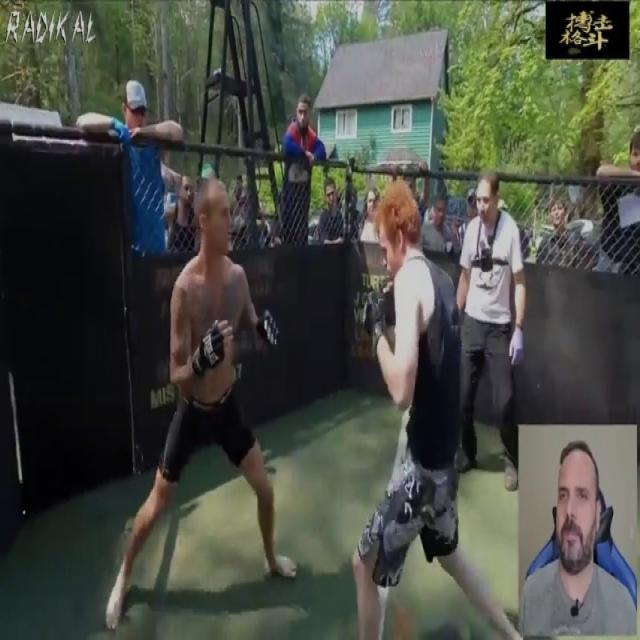fight: (110, 181, 522, 640)
non-fight: (452, 168, 526, 491), (519, 439, 637, 636), (83, 82, 182, 251), (280, 94, 326, 242), (596, 126, 640, 274), (536, 193, 579, 269), (422, 192, 454, 256), (315, 179, 346, 243), (454, 188, 480, 253), (357, 186, 381, 244)
